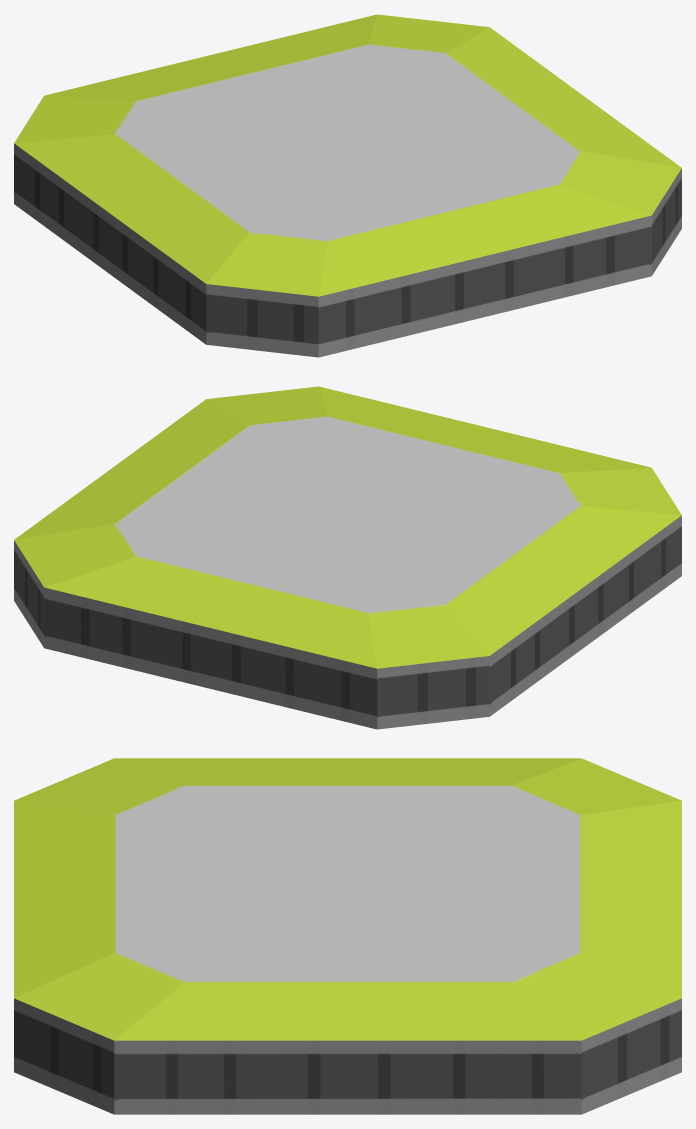
Rendered from Model_BasePlatform.fbx.
The picture shows the model from 3 angles, top to bottom: view 1: azimuth 30°, elevation 25°; view 2: azimuth 150°, elevation 25°; view 3: azimuth 270°, elevation 25°; orthographic projection. The views are drawn at different scales.
Parts seen in each view (by area): view 1: pCube1; view 2: pCube1; view 3: pCube1.
Boxes of the visible parts, x1,y1,x2,y2 form: pCube1: [14, 14, 681, 357]; pCube1: [14, 386, 681, 729]; pCube1: [14, 758, 681, 1114].
Bounding box in the file's own units: 4.27 × 0.7399 × 4.27.
